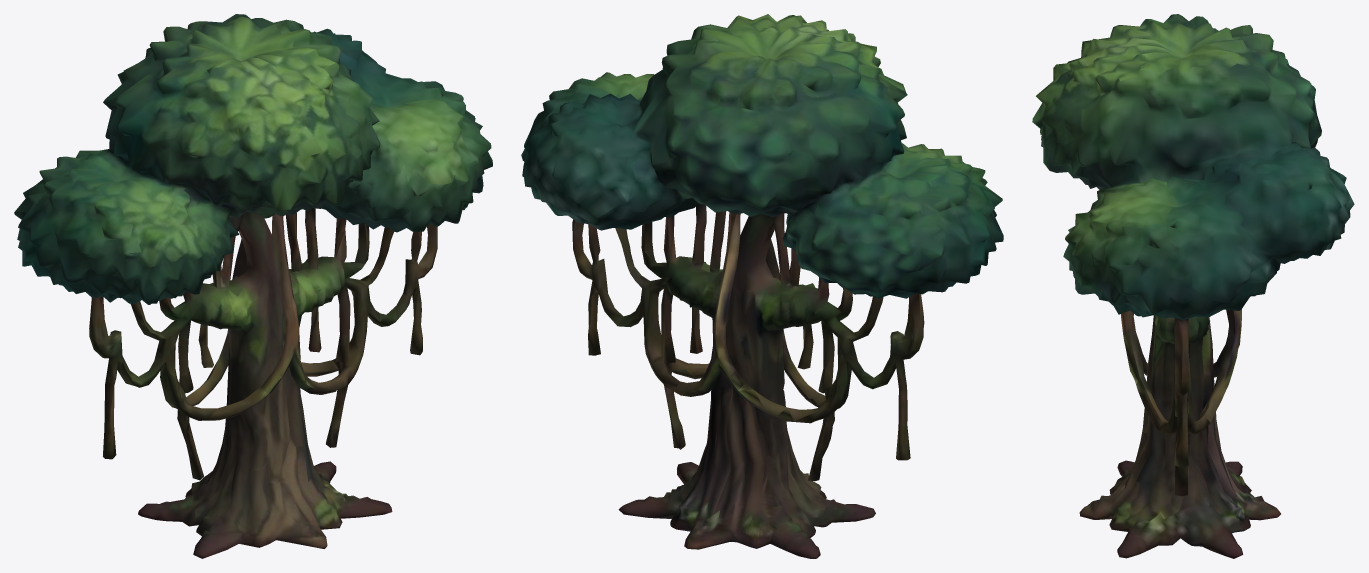
The model's file is f04_arvore_copa_densa.glb.
3 renders of one model, left to right at view 1: azimuth 30°, elevation 25°; view 2: azimuth 150°, elevation 25°; view 3: azimuth 270°, elevation 25°, orthographic. The views are drawn at different scales.
Parts seen in each view (by area): view 1: f04_arvore_copa_densa; view 2: f04_arvore_copa_densa; view 3: f04_arvore_copa_densa.
Boxes of the visible parts, left/top/right/bottom form: f04_arvore_copa_densa: left=14, top=14, right=492, bottom=558; f04_arvore_copa_densa: left=521, top=14, right=1003, bottom=558; f04_arvore_copa_densa: left=1032, top=14, right=1354, bottom=558.
Size of the model in its own units: 1.02 by 1.04 by 0.654.
1 material, 1 textured.
